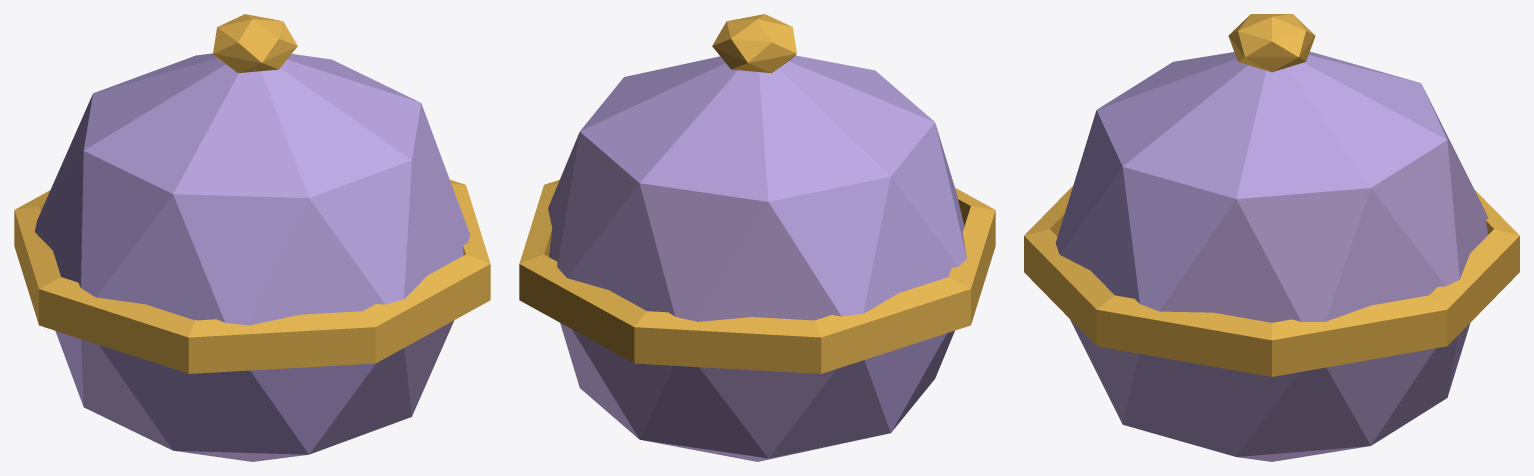
File: orb.glb
3 views of the same model, side by side, from view 1: azimuth 30°, elevation 25°; view 2: azimuth 150°, elevation 25°; view 3: azimuth 270°, elevation 25° (orthographic).
Visible parts, largest first — view 1: core; view 2: core; view 3: core.
Part boxes in pixels (left/top/right/bottom): core: left=14, top=14, right=490, bottom=461; core: left=519, top=14, right=995, bottom=461; core: left=1024, top=14, right=1519, bottom=461.
Bounding box in the file's own units: 0.054 × 0.0535 × 0.054.
